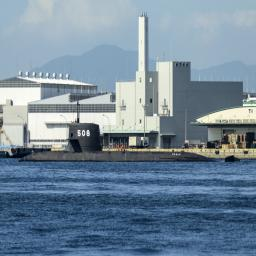submarine: (19, 120, 237, 162)
